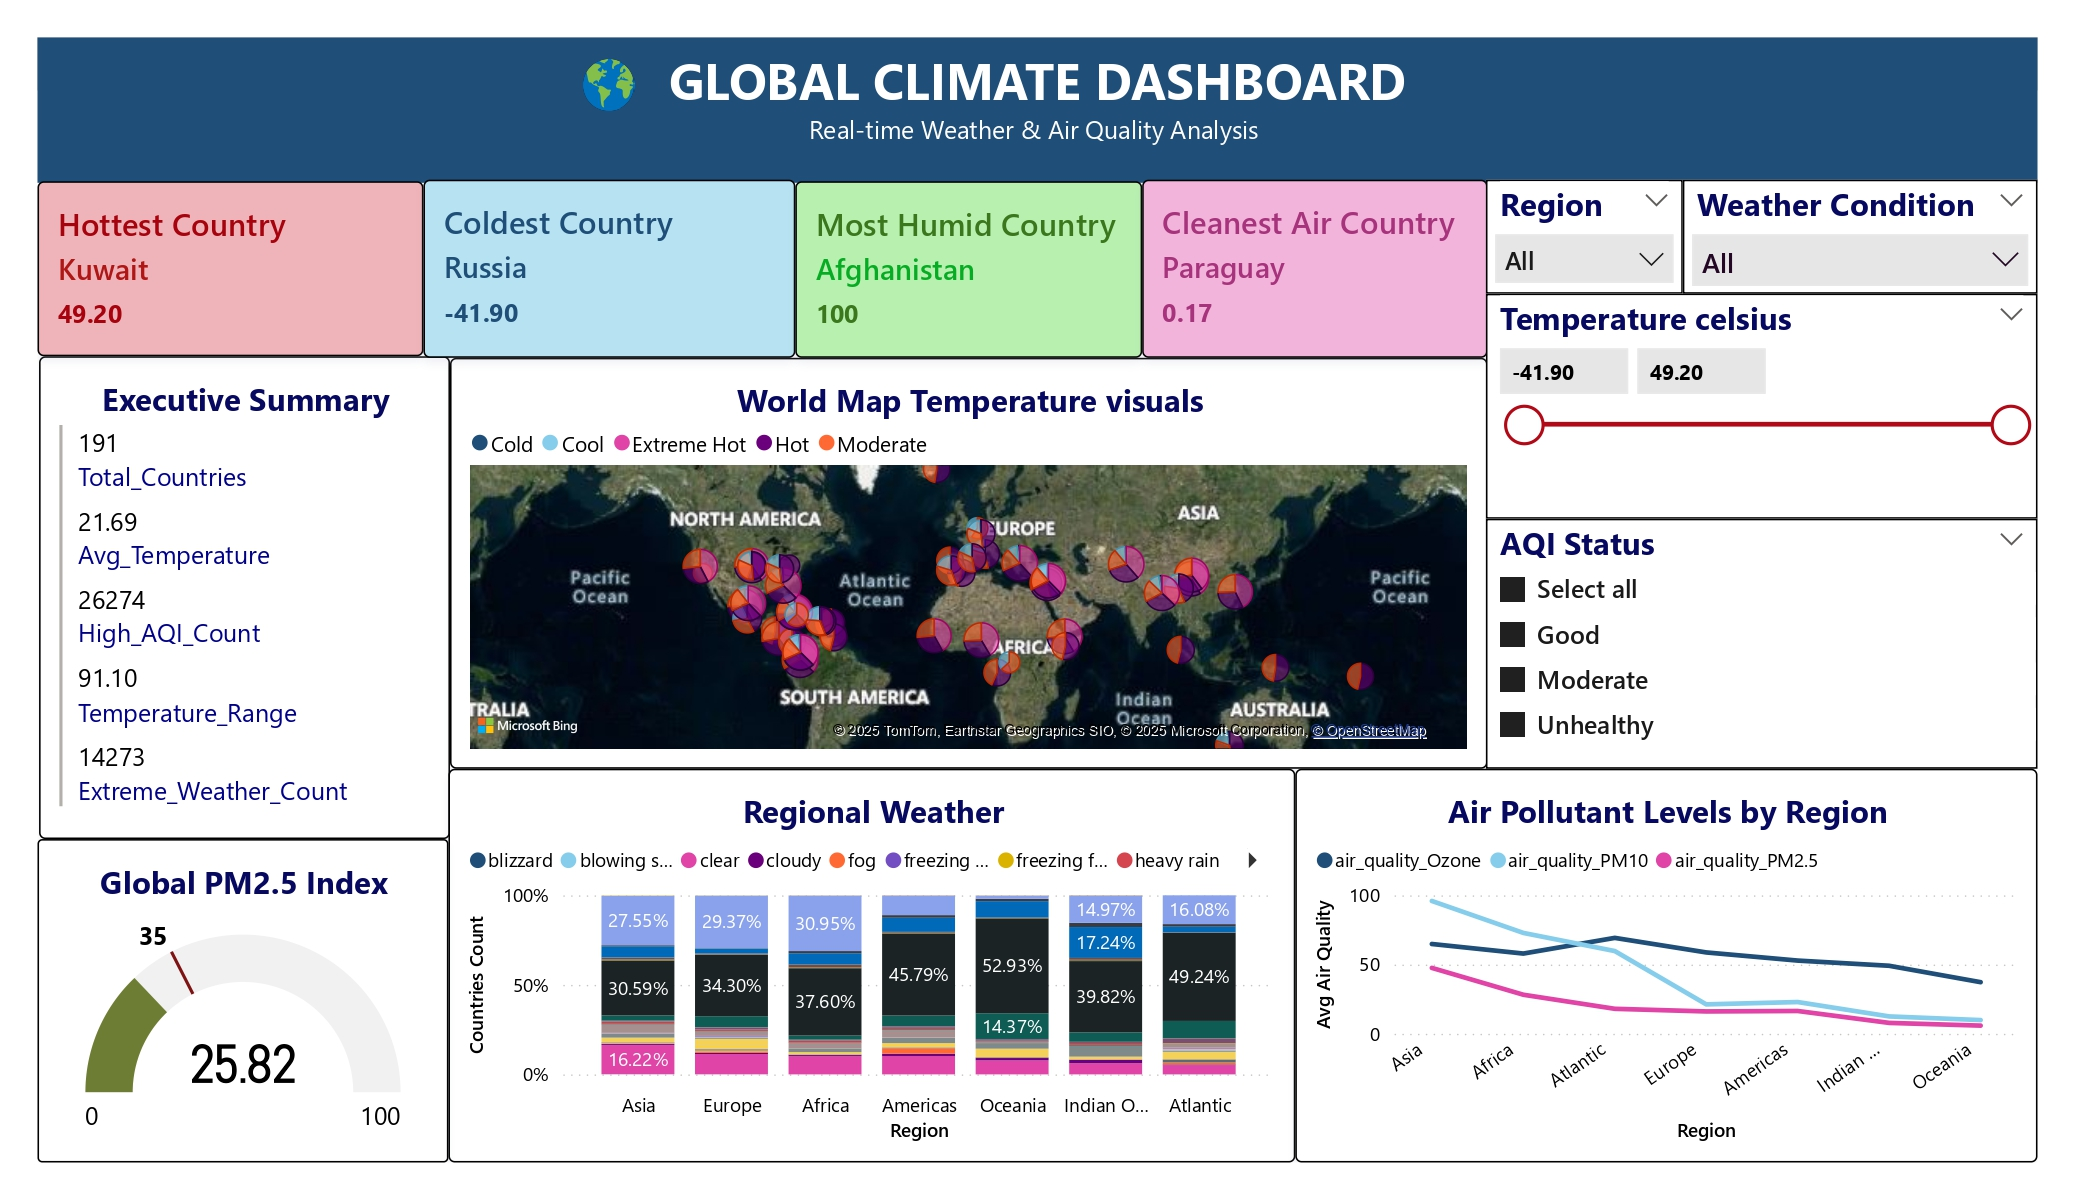

Layout of this report page (visuals, bound fields, positions):
{"tool":"powerbi","page":{"name":"Overview","canvas":[1280,720],"ordinal":0},"visuals":[{"type":"textbox","title":"Global Weather Analytics Dashboard","box":[0,0,1280,80.8],"z":0},{"type":"shapeMap","title":"Global Temperature Distribution","fields":{"Category":["in.country"],"Value":["Avg(in.temperature_celsius)"]},"box":[13,93.5,822.1,526],"z":1000},{"type":"slicer","fields":{"Values":["in.country"]},"box":[13.3,630.7,258.7,77.3],"z":2000},{"type":"card","title":"Avg Temperature","fields":{"Values":["Avg(in.temperature_celsius)"]},"box":[925.4,418.3,163.4,94.4],"z":3000},{"type":"card","title":"Avg Wind kph","fields":{"Values":["Avg(in.wind_kph)"]},"box":[925.4,204.2,163.4,93],"z":4000},{"type":"card","title":"Avg UV Index","fields":{"Values":["Avg(in.uv_index)"]},"box":[1097.2,314.1,167.6,94.4],"z":5000},{"type":"card","title":"Avg Humidity %","fields":{"Values":["Avg(in.humidity)"]},"box":[1094.4,204.2,170.4,93],"z":6000},{"type":"card","title":"Avg Air Quality ","fields":{"Values":["Avg(in.air_quality_PM2.5)"]},"box":[925.4,314.1,163.4,94.4],"z":7000},{"type":"card","title":"Country ","fields":{"Values":["Min(in.country)"]},"box":[925,90.3,345.8,100],"z":8000},{"type":"slicer","title":"Temperature_celsius Range","fields":{"Values":["in.temperature_celsius"]},"box":[550,630.2,357,89.5],"z":9000},{"type":"slicer","title":"Weather Condition","fields":{"Values":["in.condition_text"]},"box":[280,629.3,257.3,78.7],"z":10000},{"type":"card","title":"Avg Precipitation ","fields":{"Values":["Avg(in.precip_mm)"]},"box":[1097.2,418.3,170.4,94.4],"z":11000},{"type":"card","fields":{"Values":["Min(in.sunrise)"]},"box":[925.4,531,163.4,88.7],"z":12000},{"type":"card","fields":{"Values":["Min(in.sunset)"]},"box":[1097.2,528.2,171.8,91.5],"z":13000},{"type":"multiRowCard","fields":{"Values":["in.latitude","in.longitude"]},"box":[920,629.3,349.3,77.3],"z":14000},{"type":"tableEx","fields":{"Values":["GradientScale.Value"]},"box":[848.1,93.5,59.7,526],"z":15000}]}

Visuals, with their boxes on the page's 1280x720 design canvas (x1, y1, x2, y2). These are canvas units, not pixel positions in the 2075x1200 screenshot, which may show the page scaled, cropped or inside an application window:
"Global Weather Analytics Dashboard" textbox: box(0, 0, 1280, 81)
"Global Temperature Distribution" shapeMap: box(13, 94, 835, 620)
slicer - in.country: box(13, 631, 272, 708)
"Avg Temperature" card: box(925, 418, 1089, 513)
"Avg Wind kph" card: box(925, 204, 1089, 297)
"Avg UV Index" card: box(1097, 314, 1265, 408)
"Avg Humidity %" card: box(1094, 204, 1265, 297)
"Avg Air Quality " card: box(925, 314, 1089, 408)
"Country " card: box(925, 90, 1271, 190)
"Temperature_celsius Range" slicer: box(550, 630, 907, 720)
"Weather Condition" slicer: box(280, 629, 537, 708)
"Avg Precipitation " card: box(1097, 418, 1268, 513)
card - Min(in.sunrise): box(925, 531, 1089, 620)
card - Min(in.sunset): box(1097, 528, 1269, 620)
multiRowCard - in.latitude x in.longitude: box(920, 629, 1269, 707)
tableEx - GradientScale.Value: box(848, 94, 908, 620)
